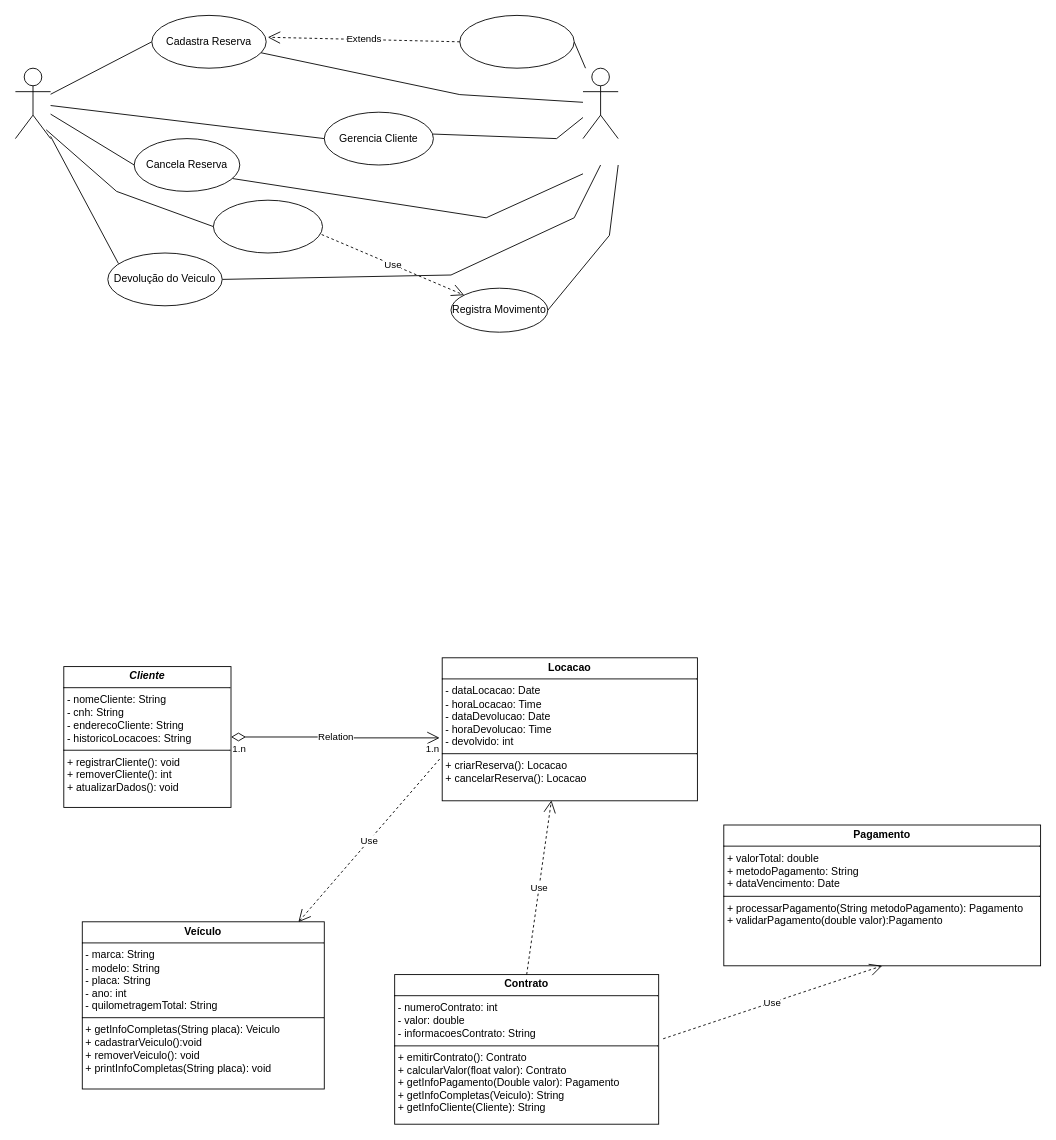
Some shapes in this 1056 by 1140 pixel diagram are drawn without their labels. Each missing label, with the centre of its shape:
"Cliente" goes at pixel 33 103.
"Funcionário" goes at pixel 600 103.
"Gerenciar Veiculo" goes at pixel 516 41.
"Realiza Pagamento" goes at pixel 268 226.
